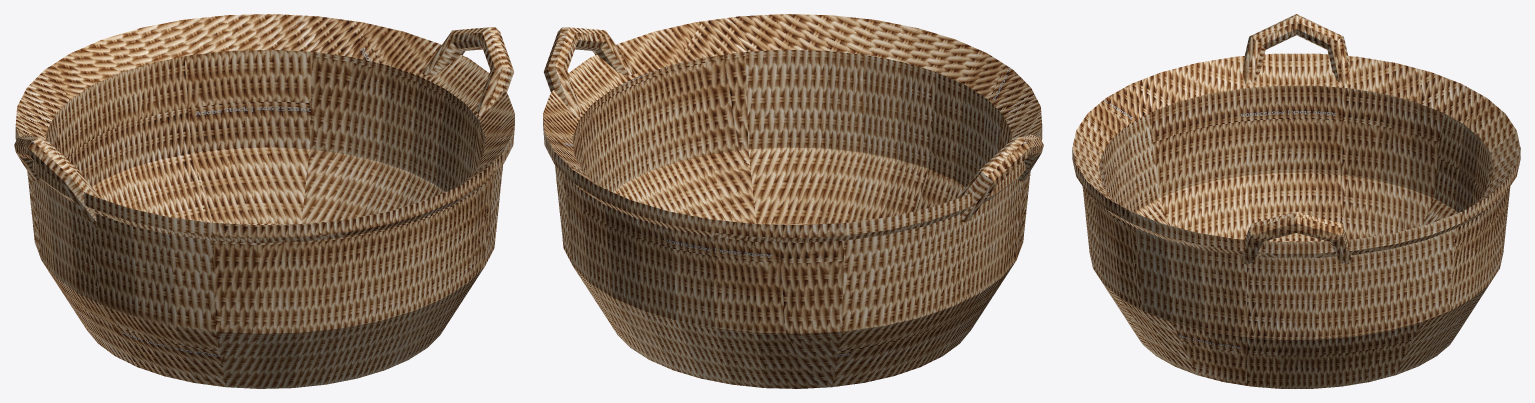
Rendered from basket.glb.
3 views of the same model, side by side, from view 1: azimuth 30°, elevation 25°; view 2: azimuth 150°, elevation 25°; view 3: azimuth 270°, elevation 25° (orthographic). The views are drawn at different scales.
Visible parts, largest first — view 1: Torus; view 2: Torus; view 3: Torus.
Part boxes in pixels (x1,y1,x2,y2): Torus: (14, 14, 514, 388); Torus: (543, 14, 1043, 388); Torus: (1072, 14, 1520, 388).
Bounding box in the file's own units: 3.23 × 1.5 × 2.96.
Materials: 1 (1 with a texture image).
